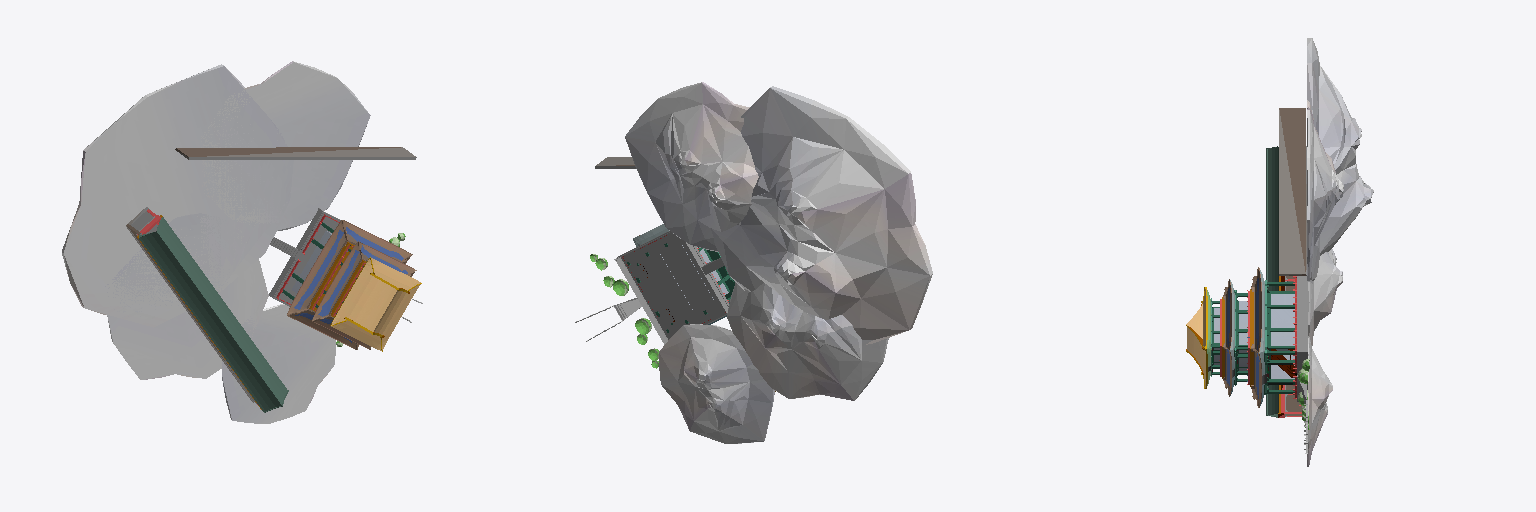
The picture shows the model from 3 angles: view 1: azimuth 30°, elevation 25°; view 2: azimuth 150°, elevation 25°; view 3: azimuth 270°, elevation 25°; orthographic projection.
Bounding box in the file's own units: 77.8 × 76.73 × 35.51.
30 materials, 8 textured.